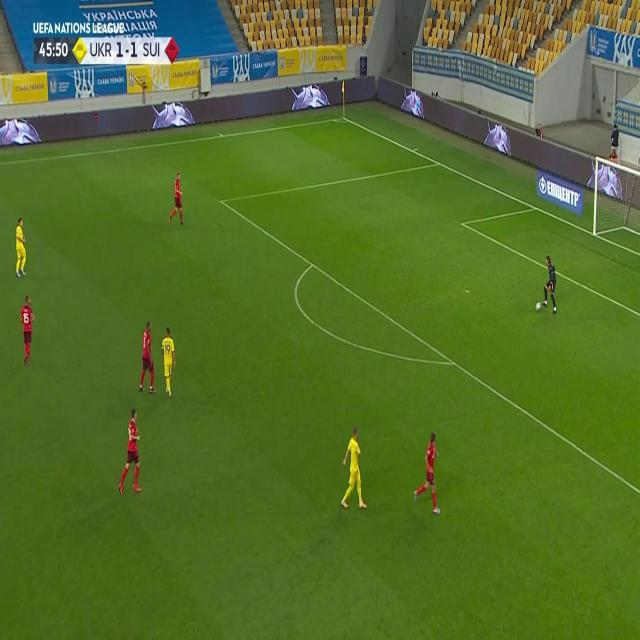ball: (535, 300, 542, 313)
player: (339, 425, 367, 512), (414, 430, 442, 516), (118, 407, 144, 497), (137, 319, 157, 395), (18, 294, 36, 366), (160, 324, 177, 398), (167, 170, 185, 226), (12, 216, 28, 278), (542, 253, 558, 314), (597, 164, 621, 199), (608, 122, 620, 161)
